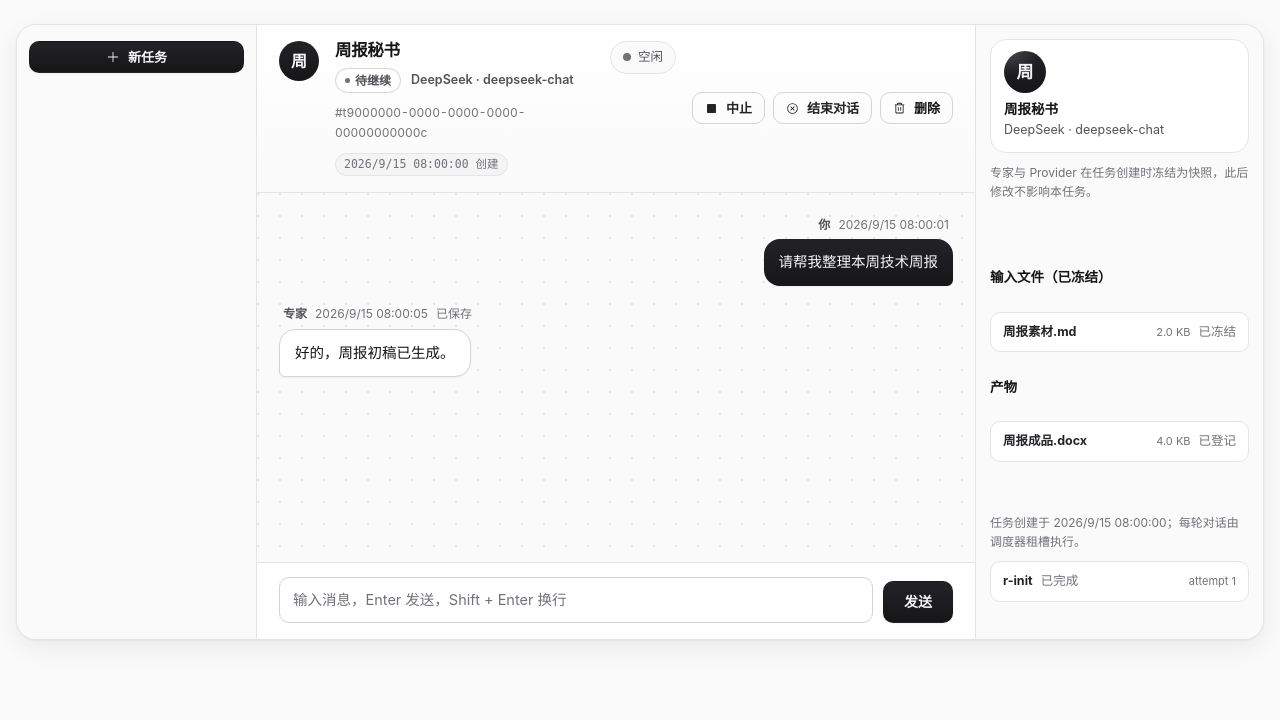
it: ⑤ ready 前发送禁用 + 429 TASK_ROUND_BUSY 面向用户 › ready 下发送 429 TASK_ROUND_BUSY → 提示含 Retry-After，幂等键随请求携带
The width and height of the screenshot is (1280, 720).
Step 1. Type "再来一轮" into the text box → point(576, 600), box [279, 577, 873, 623]
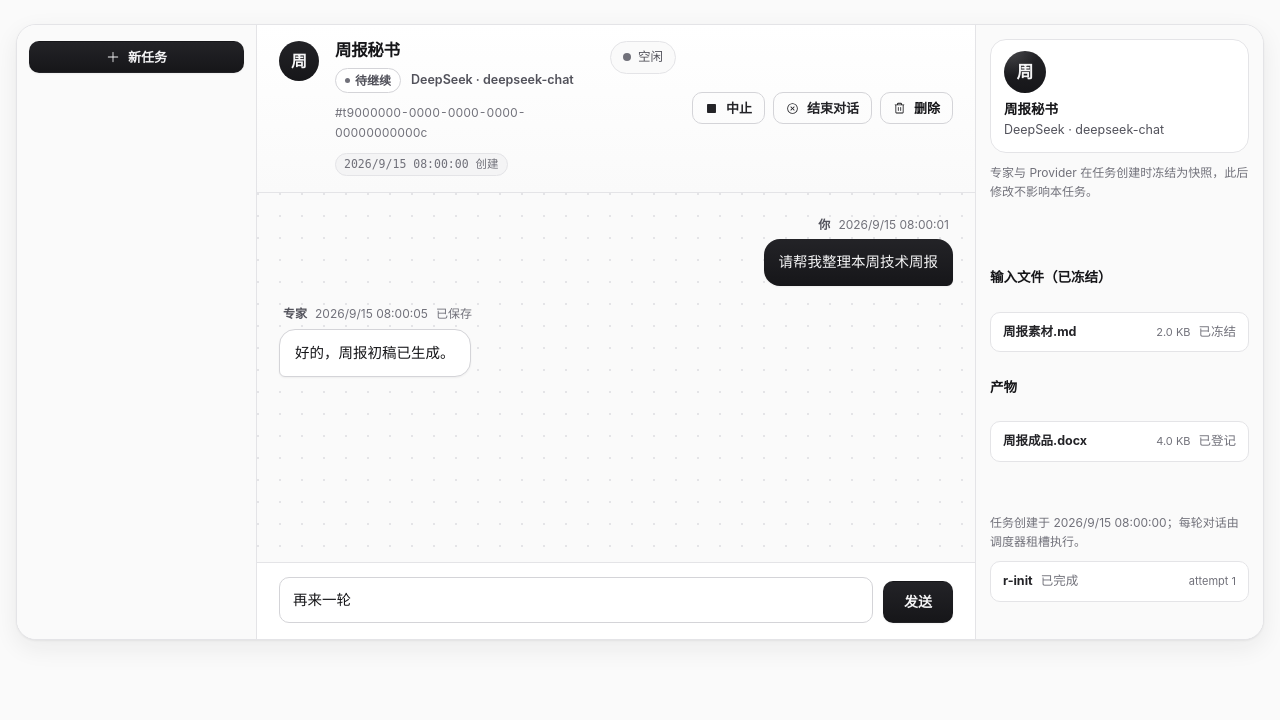
Step 2. Click the button "发送" → point(918, 602), box [883, 581, 953, 623]
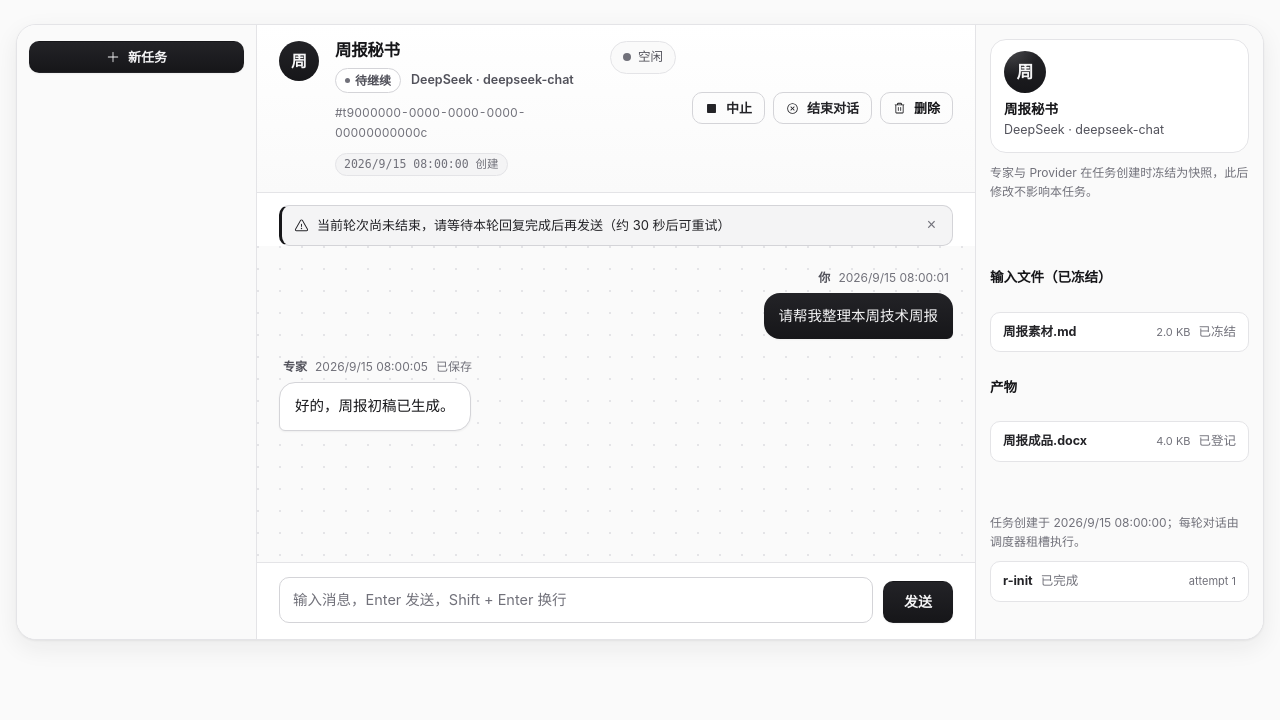
Check: the message shows "30", box [317, 216, 730, 232]
